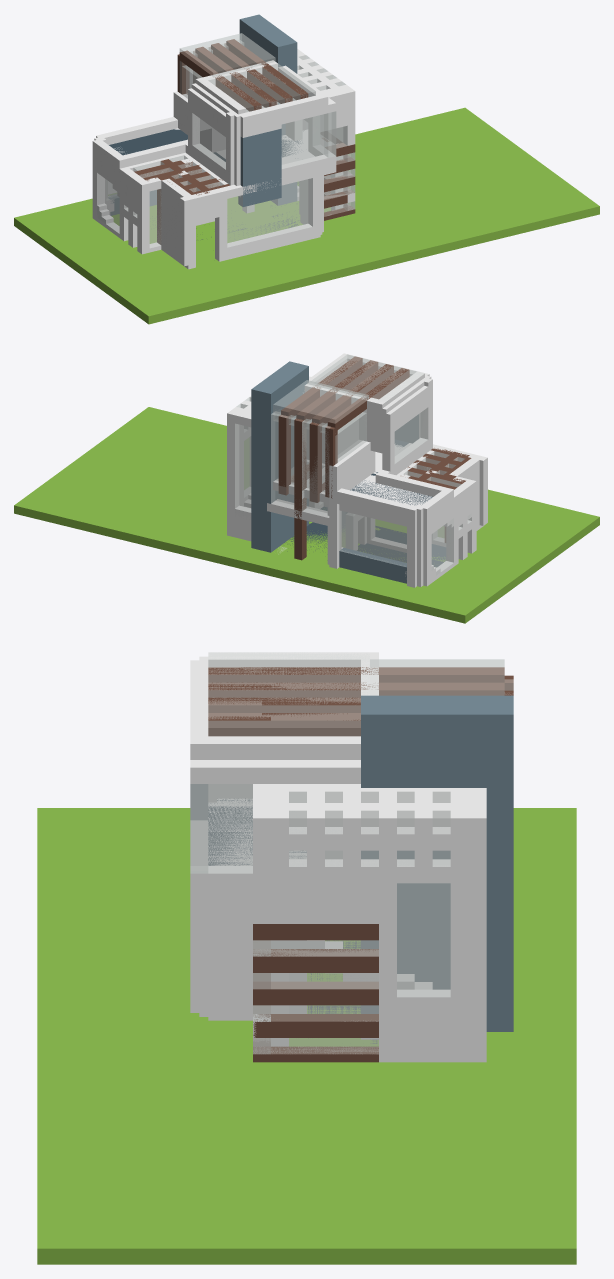
File: Modern House.glb
3 views of the same model, one above another, from view 1: azimuth 30°, elevation 25°; view 2: azimuth 150°, elevation 25°; view 3: azimuth 270°, elevation 25° (orthographic). The views are drawn at different scales.
Visible parts, largest first — view 1: Node; view 2: Node; view 3: Node.
Part boxes in pixels (<box>): Node: <box>14,14,599,324</box>; Node: <box>14,353,599,623</box>; Node: <box>37,652,576,1264</box>.
Size of the model in its own units: 1.16 by 0.42 by 0.6.
